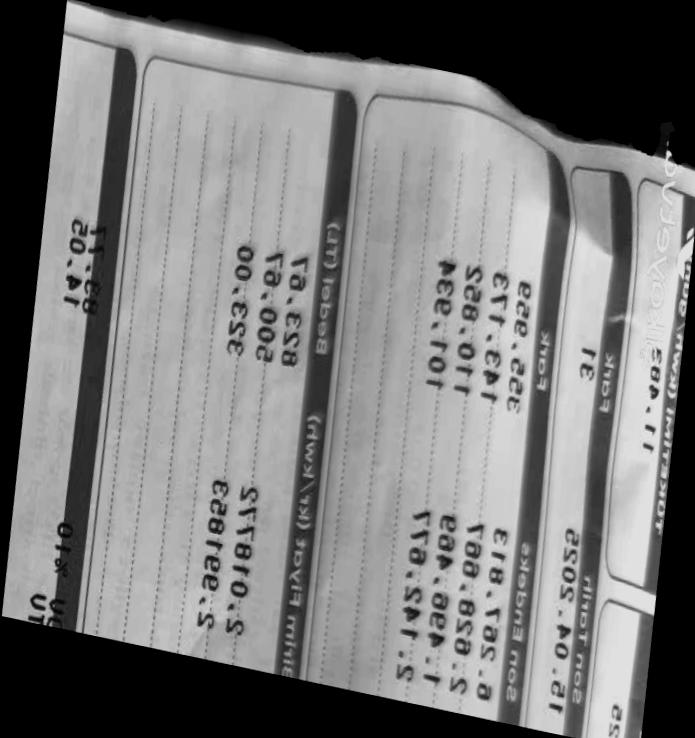electricity-bill: (1, 1, 695, 738)
